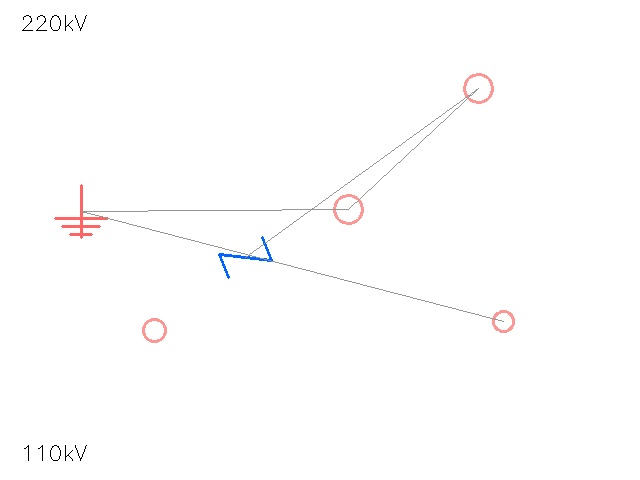circuit_breaker: (219, 231, 271, 283)
current_transformer: (450, 60, 506, 116)
fuse: (320, 181, 376, 237)
ground: (55, 185, 107, 237)
reactor: (132, 308, 176, 352)
surge_arrester: (483, 301, 523, 341)
